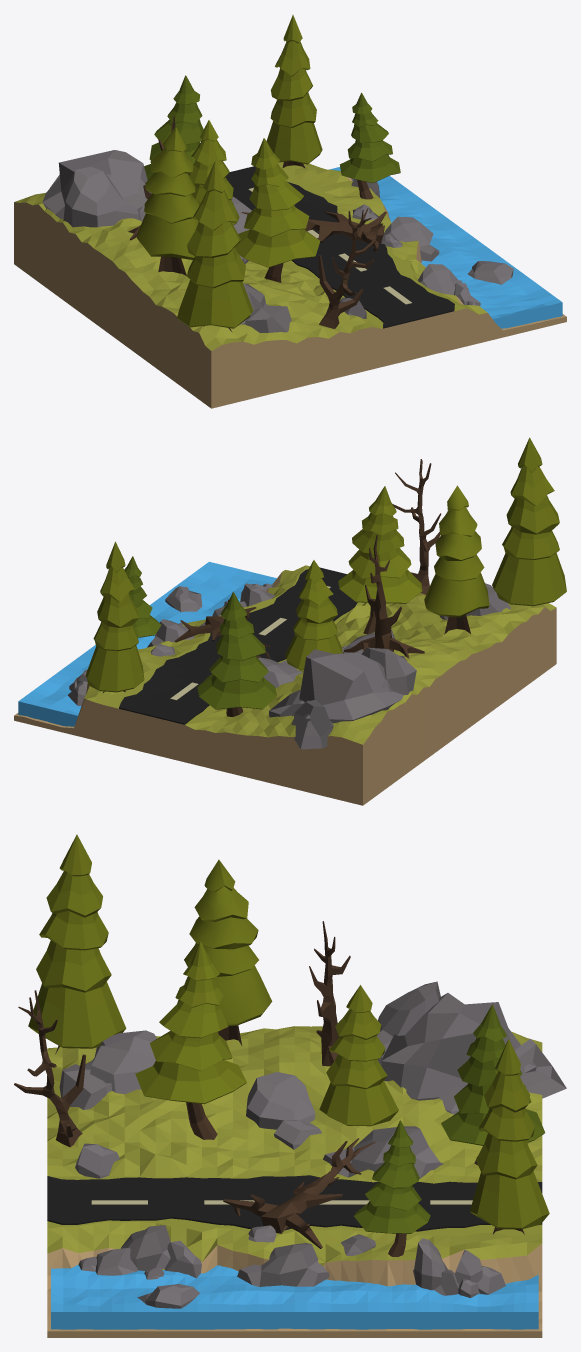
Rendered from low_poly_forest.glb.
3 views of the same model, one above another, from view 1: azimuth 30°, elevation 25°; view 2: azimuth 150°, elevation 25°; view 3: azimuth 270°, elevation 25° (orthographic). The views are drawn at different scales.
Visible parts, largest first — view 1: terra_1, road_3, water_2, tree.000_36, tree1_9, tree.002_41, tree.001_37, rock3.001_12, rock4.001_13, tree1.002_45, tree1.001_43, derevo1.001_39 (+6 smaller); view 2: terra_1, road_3, tree.000_36, water_2, tree.002_41, tree.001_37, rock3.001_12, tree1.001_43, tree1_9, tree.003_38, derevo2_46, rock2.002_15 (+10 smaller); view 3: terra_1, water_2, road_3, tree.000_36, tree1_9, tree.001_37, tree.002_41, rock3.001_12, tree.003_38, tree1.002_45, tree1.001_43, derevo2.001_40 (+19 smaller).
Boxes of the visible parts, <box> form: terra_1: <box>14,162,566,408</box>; road_3: <box>225,166,454,328</box>; water_2: <box>329,167,562,328</box>; tree.000_36: <box>177,160,253,332</box>; tree1_9: <box>235,138,320,267</box>; tree.002_41: <box>137,126,198,276</box>; tree.001_37: <box>266,15,322,168</box>; rock3.001_12: <box>42,150,151,218</box>; rock4.001_13: <box>63,166,139,227</box>; tree1.002_45: <box>339,92,400,183</box>; tree1.001_43: <box>144,75,203,179</box>; derevo1.001_39: <box>318,208,375,328</box>; terra_1: <box>14,565,556,805</box>; road_3: <box>119,567,357,724</box>; tree.000_36: <box>492,437,566,606</box>; water_2: <box>18,561,276,726</box>; tree.002_41: <box>424,485,489,634</box>; tree.001_37: <box>85,541,144,692</box>; rock3.001_12: <box>299,649,403,723</box>; tree1.001_43: <box>197,591,276,709</box>; tree1_9: <box>338,486,422,603</box>; tree.003_38: <box>285,560,342,669</box>; derevo2_46: <box>344,535,424,658</box>; rock2.002_15: <box>291,700,333,749</box>; terra_1: <box>47,1026,542,1337</box>; water_2: <box>51,1264,538,1329</box>; road_3: <box>47,1175,542,1231</box>; tree.000_36: <box>28,834,126,1054</box>; tree1_9: <box>135,941,246,1104</box>; tree.001_37: <box>470,1038,549,1234</box>; tree.002_41: <box>177,859,272,1045</box>; rock3.001_12: <box>381,993,536,1100</box>; tree.003_38: <box>319,985,398,1126</box>; tree1.002_45: <box>354,1120,430,1233</box>; tree1.001_43: <box>441,1004,545,1145</box>; derevo2.001_40: <box>223,1138,375,1248</box>.
Size of the model in its own units: 19.56 by 11.86 by 20.09.
